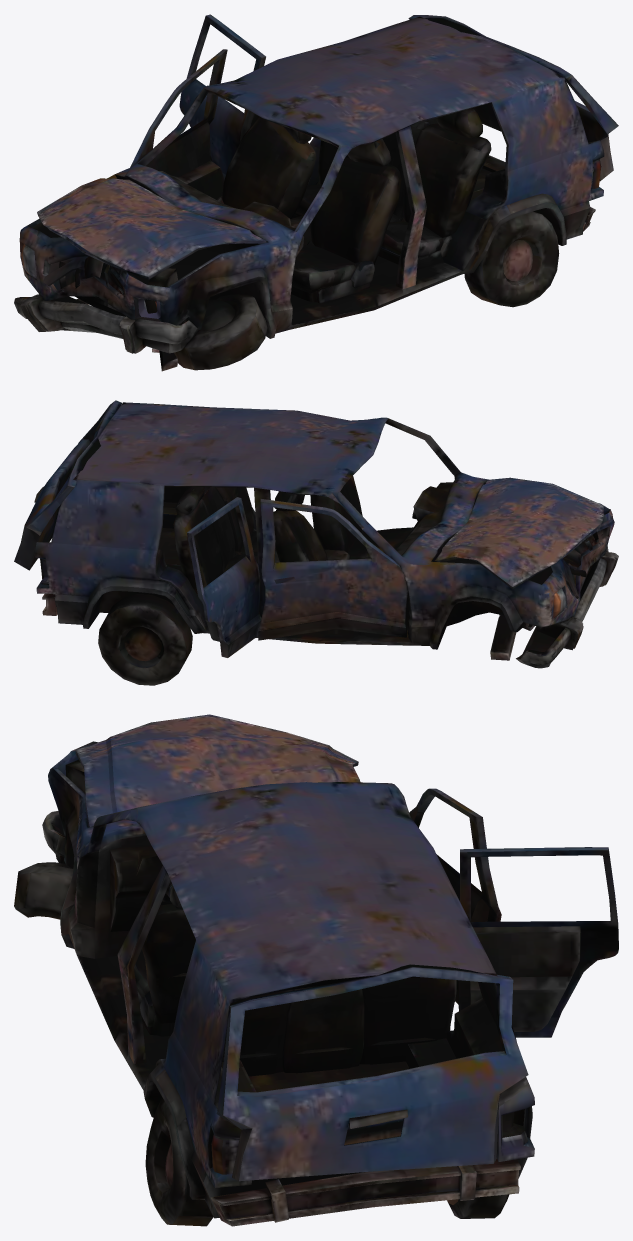
The model's file is crashed-car.glb.
3 renders of one model, top to bottom at view 1: azimuth 30°, elevation 25°; view 2: azimuth 150°, elevation 25°; view 3: azimuth 270°, elevation 25°, orthographic. The views are drawn at different scales.
Visible parts, largest first — view 1: Crashed_Abandoned_Car; view 2: Crashed_Abandoned_Car; view 3: Crashed_Abandoned_Car.
Boxes of the visible parts, x1=… form: Crashed_Abandoned_Car: x1=14, y1=14, x2=618, y2=371; Crashed_Abandoned_Car: x1=14, y1=400, x2=618, y2=685; Crashed_Abandoned_Car: x1=14, y1=714, x2=618, y2=1226.
Size of the model in its own units: 4.7 by 1.88 by 3.2.
Materials: 1 (1 with a texture image).
